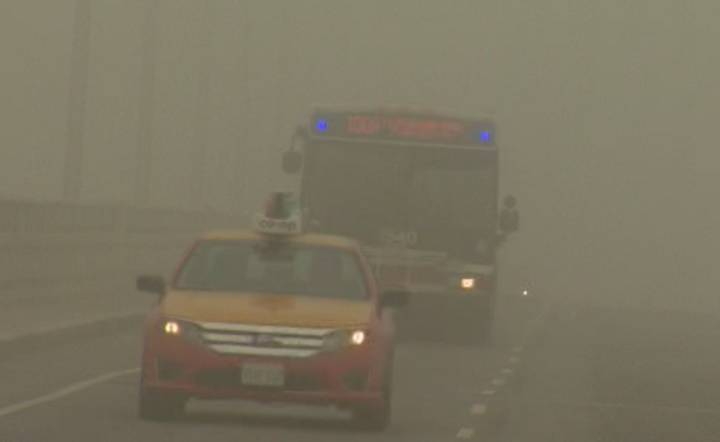bus: (285, 100, 520, 340)
car: (134, 224, 394, 427)
